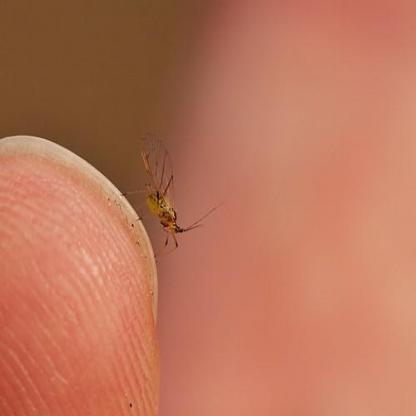aphid: (128, 129, 226, 251)
